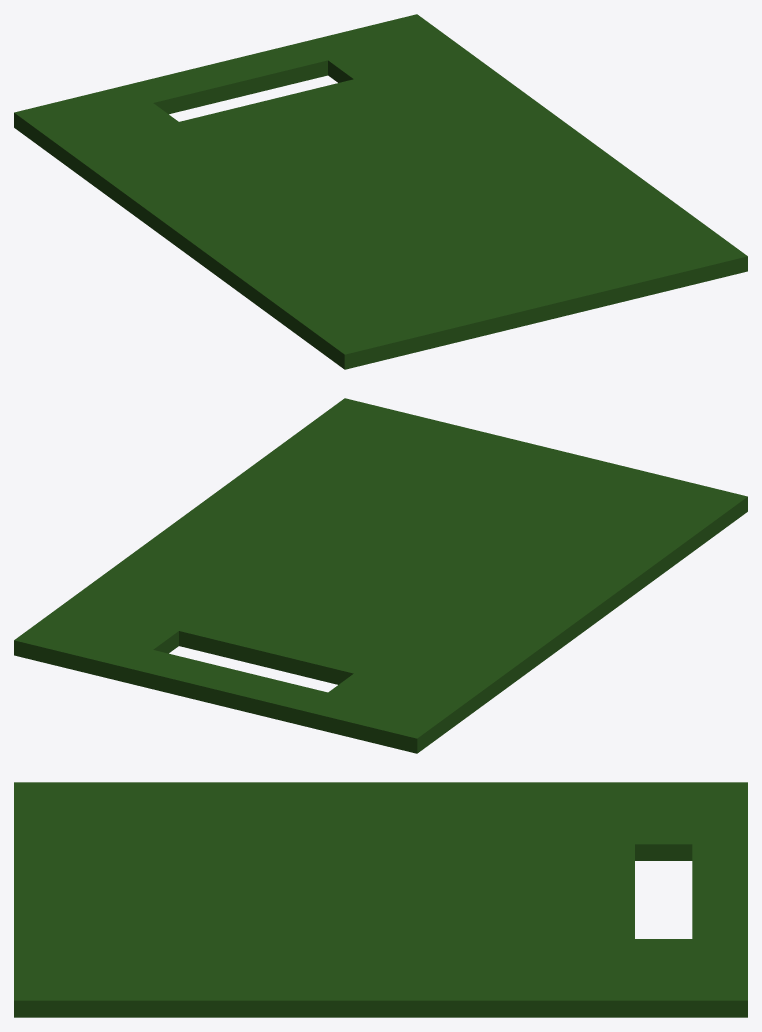
The model's file is stand.fbx.
3 views of the same model, one above another, from view 1: azimuth 30°, elevation 25°; view 2: azimuth 150°, elevation 25°; view 3: azimuth 270°, elevation 25° (orthographic). The views are drawn at different scales.
Parts seen in each view (by area): view 1: Cube.012; view 2: Cube.012; view 3: Cube.012.
Boxes of the visible parts, bbox=[...] form: Cube.012: bbox=[14, 14, 747, 369]; Cube.012: bbox=[14, 398, 747, 753]; Cube.012: bbox=[14, 782, 747, 1017].
Size of the model in its own units: 0.1366 by 0.0049 by 0.1941.
